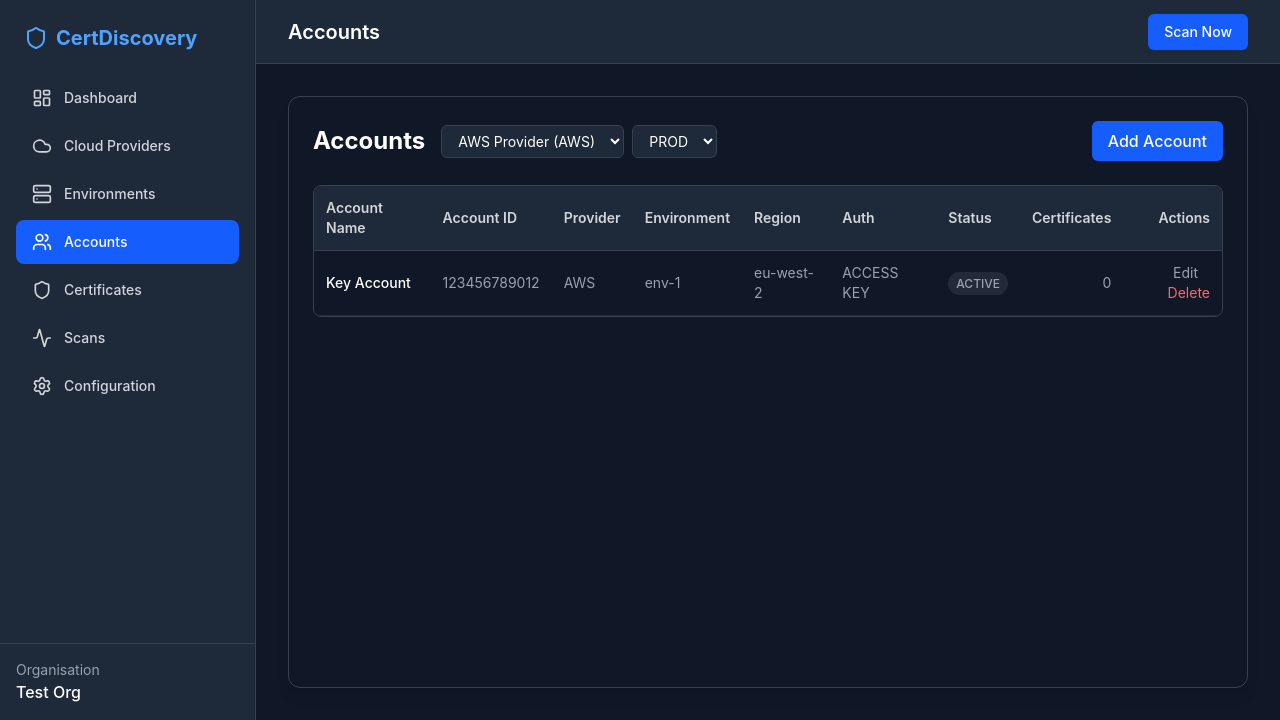
Accounts edit › shows no stored secret when editing, only that one is configured
The width and height of the screenshot is (1280, 720).
Click the button "Edit": coordinates (1186, 273) 1173,263 -> 1198,283
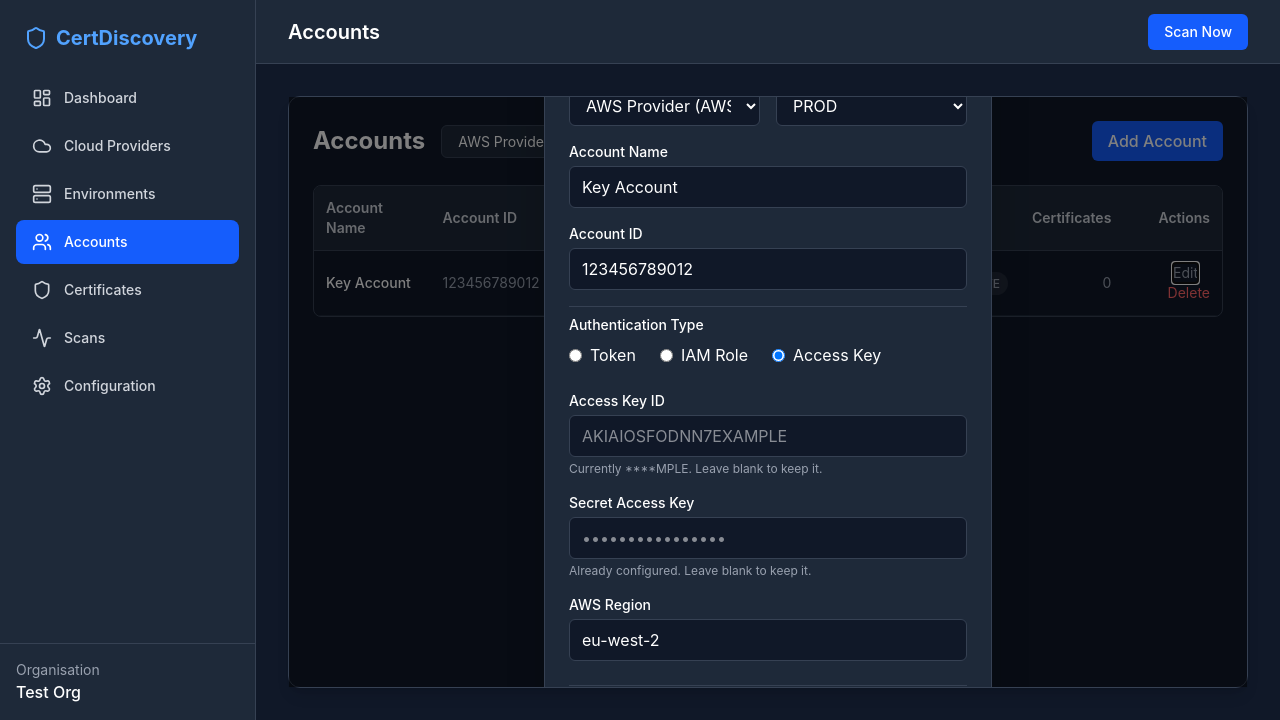
Expected: the password field labelled "Secret Access Key" is empty, 569,517 -> 967,559
Expected: the field labelled "Access Key ID" is empty, 569,415 -> 967,457
Expected: the text "Currently ****MPLE. Leave blank to keep it." is shown, 569,461 -> 822,476
